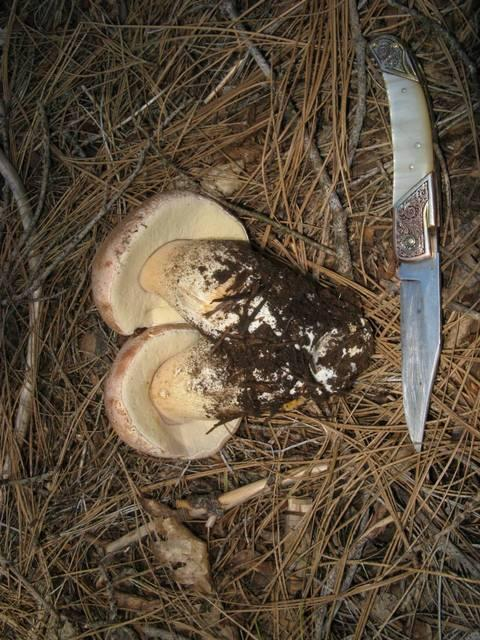Edible Mushroom: (87, 187, 375, 465)
